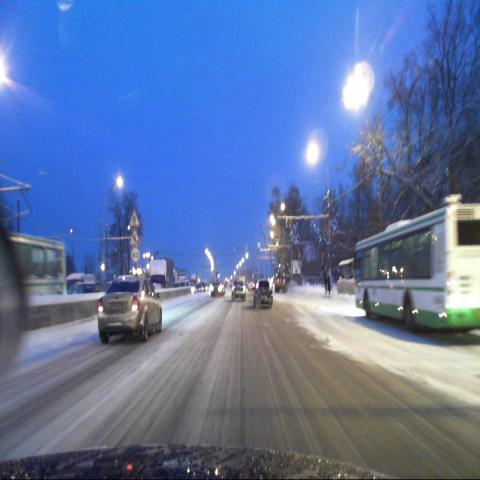1_20_3: (128, 210, 140, 229)
